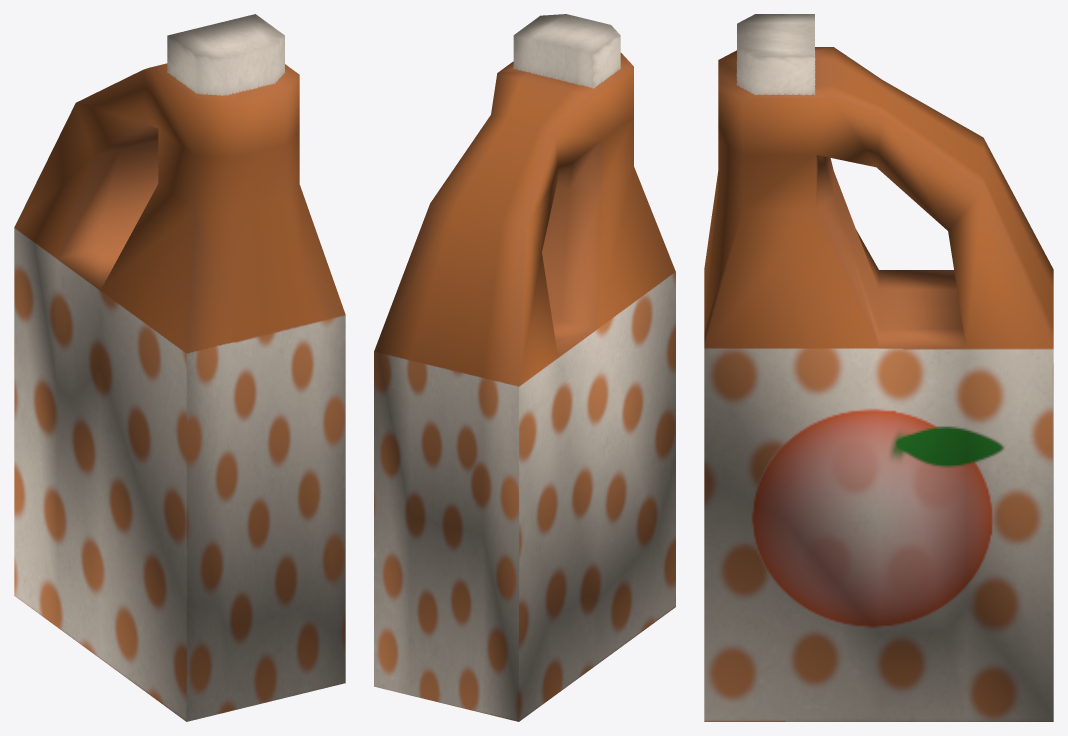
File: juiceJug_Small.fbx
3 views of the same model, side by side, from view 1: azimuth 30°, elevation 25°; view 2: azimuth 150°, elevation 25°; view 3: azimuth 270°, elevation 25° (orthographic). The views are drawn at different scales.
Parts seen in each view (by area): view 1: juiceJug; view 2: juiceJug; view 3: juiceJug.
Boxes of the visible parts, x1,y1,x2,y2 form: juiceJug: (14,14,345,721); juiceJug: (374,14,675,721); juiceJug: (704,14,1053,721).
Bounding box in the file's own units: 189 × 722 × 354.
Materials: 1 (1 with a texture image).
